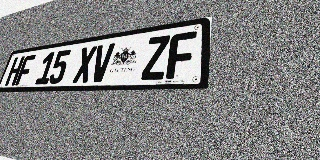1: (35, 51, 57, 85)
5: (48, 49, 71, 84)
F: (166, 31, 197, 79), (15, 55, 36, 85)
H: (4, 56, 25, 86)
V: (89, 43, 115, 82)
X: (72, 45, 97, 83)
Z: (141, 35, 170, 80)
